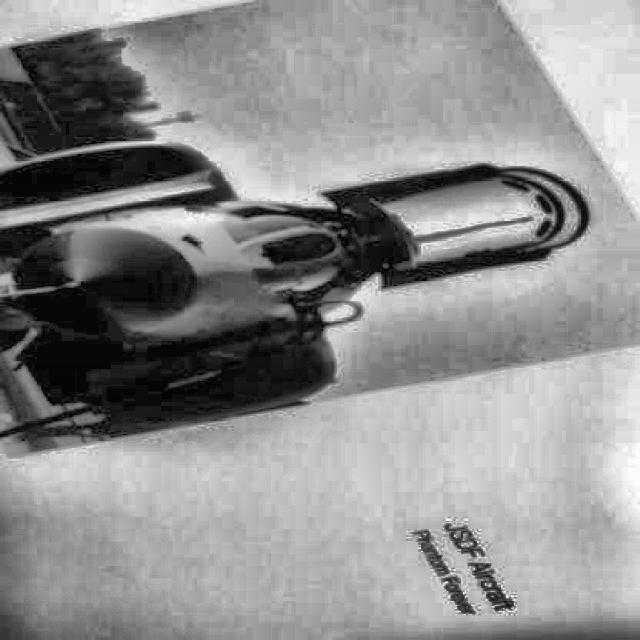F4: (1, 138, 590, 444)
